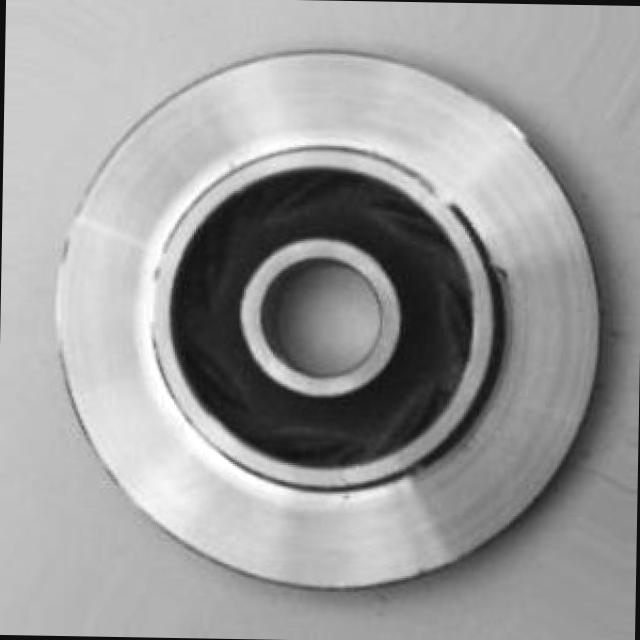Defect: (486, 250, 527, 292)
